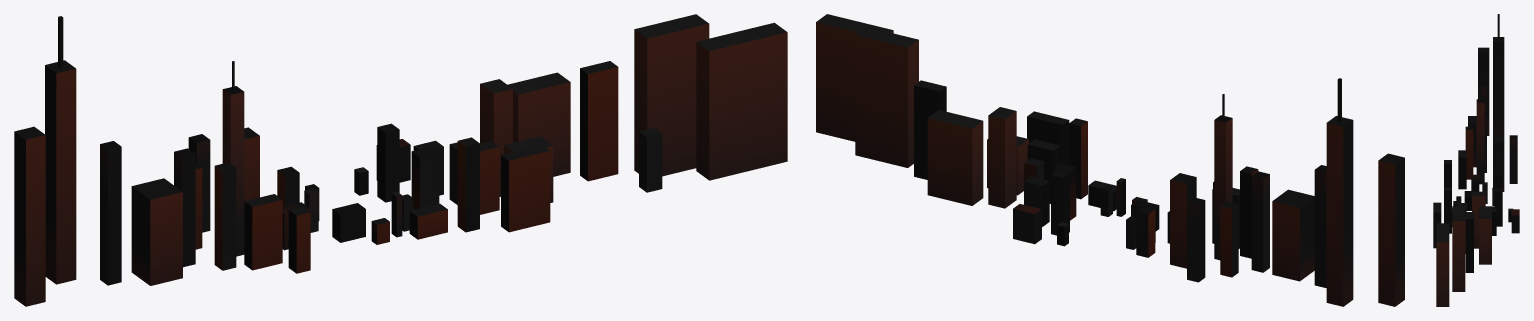
The model's file is Citybackground1.fbx.
The picture shows the model from 3 angles, left to right: view 1: azimuth 30°, elevation 25°; view 2: azimuth 150°, elevation 25°; view 3: azimuth 270°, elevation 25°; orthographic projection. The views are drawn at different scales.
Visible parts, largest first — view 1: Background1; view 2: Background1; view 3: Background1.
Boxes of the visible parts, x1=… form: Background1: x1=14, y1=14, x2=787, y2=306; Background1: x1=816, y1=14, x2=1404, y2=306; Background1: x1=1433, y1=14, x2=1519, y2=306.
Size of the model in its own units: 652 by 226 by 135.
